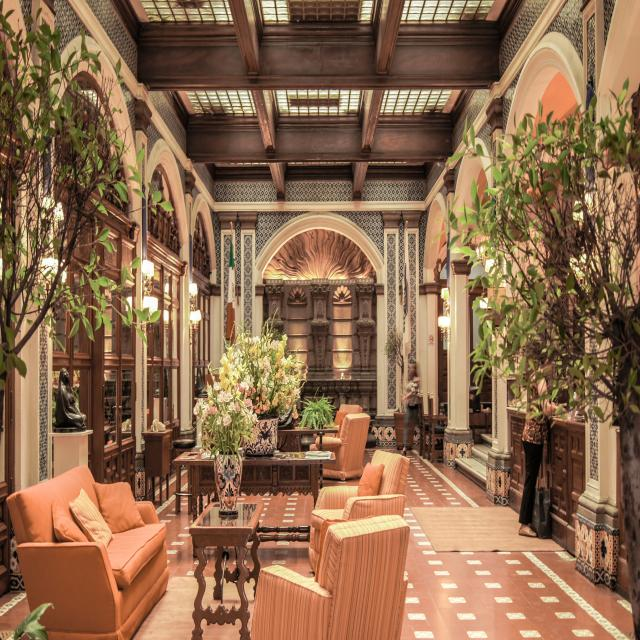floor: (401, 447, 632, 640), (424, 603, 635, 640), (153, 471, 199, 586), (237, 492, 313, 527), (257, 540, 315, 579), (0, 591, 31, 640), (203, 546, 218, 578), (180, 469, 188, 492), (202, 494, 208, 510)
wall: (255, 277, 385, 422), (255, 211, 384, 284), (505, 31, 584, 134), (571, 416, 622, 535), (145, 139, 189, 266), (444, 259, 474, 441), (83, 0, 139, 84), (214, 180, 426, 202), (500, 0, 551, 79), (419, 281, 447, 415), (402, 211, 421, 384), (532, 72, 579, 140), (539, 0, 584, 69), (218, 212, 238, 360), (255, 211, 313, 260), (326, 211, 384, 259), (581, 0, 604, 116), (383, 211, 402, 346), (238, 212, 258, 338), (148, 91, 186, 157), (453, 154, 491, 218), (452, 90, 489, 155), (53, 0, 97, 54), (192, 193, 217, 285), (486, 377, 510, 472), (38, 323, 52, 484), (423, 192, 447, 283), (501, 63, 526, 134), (28, 328, 38, 486), (180, 266, 189, 432), (20, 340, 29, 490), (184, 170, 196, 266), (385, 350, 402, 417), (214, 212, 221, 369), (53, 436, 79, 478), (170, 147, 186, 210), (122, 82, 136, 152), (14, 368, 21, 493), (147, 119, 166, 165), (194, 163, 214, 200), (426, 162, 446, 197), (604, 0, 616, 58), (398, 211, 403, 337), (475, 119, 491, 156), (418, 211, 426, 284), (453, 155, 464, 200), (235, 212, 241, 285), (19, 0, 32, 33), (476, 168, 487, 205), (78, 435, 88, 468), (475, 136, 489, 156), (439, 219, 447, 254), (192, 183, 201, 212), (206, 201, 214, 232), (438, 183, 447, 210), (426, 199, 433, 233), (235, 295, 241, 334), (484, 166, 494, 189)
